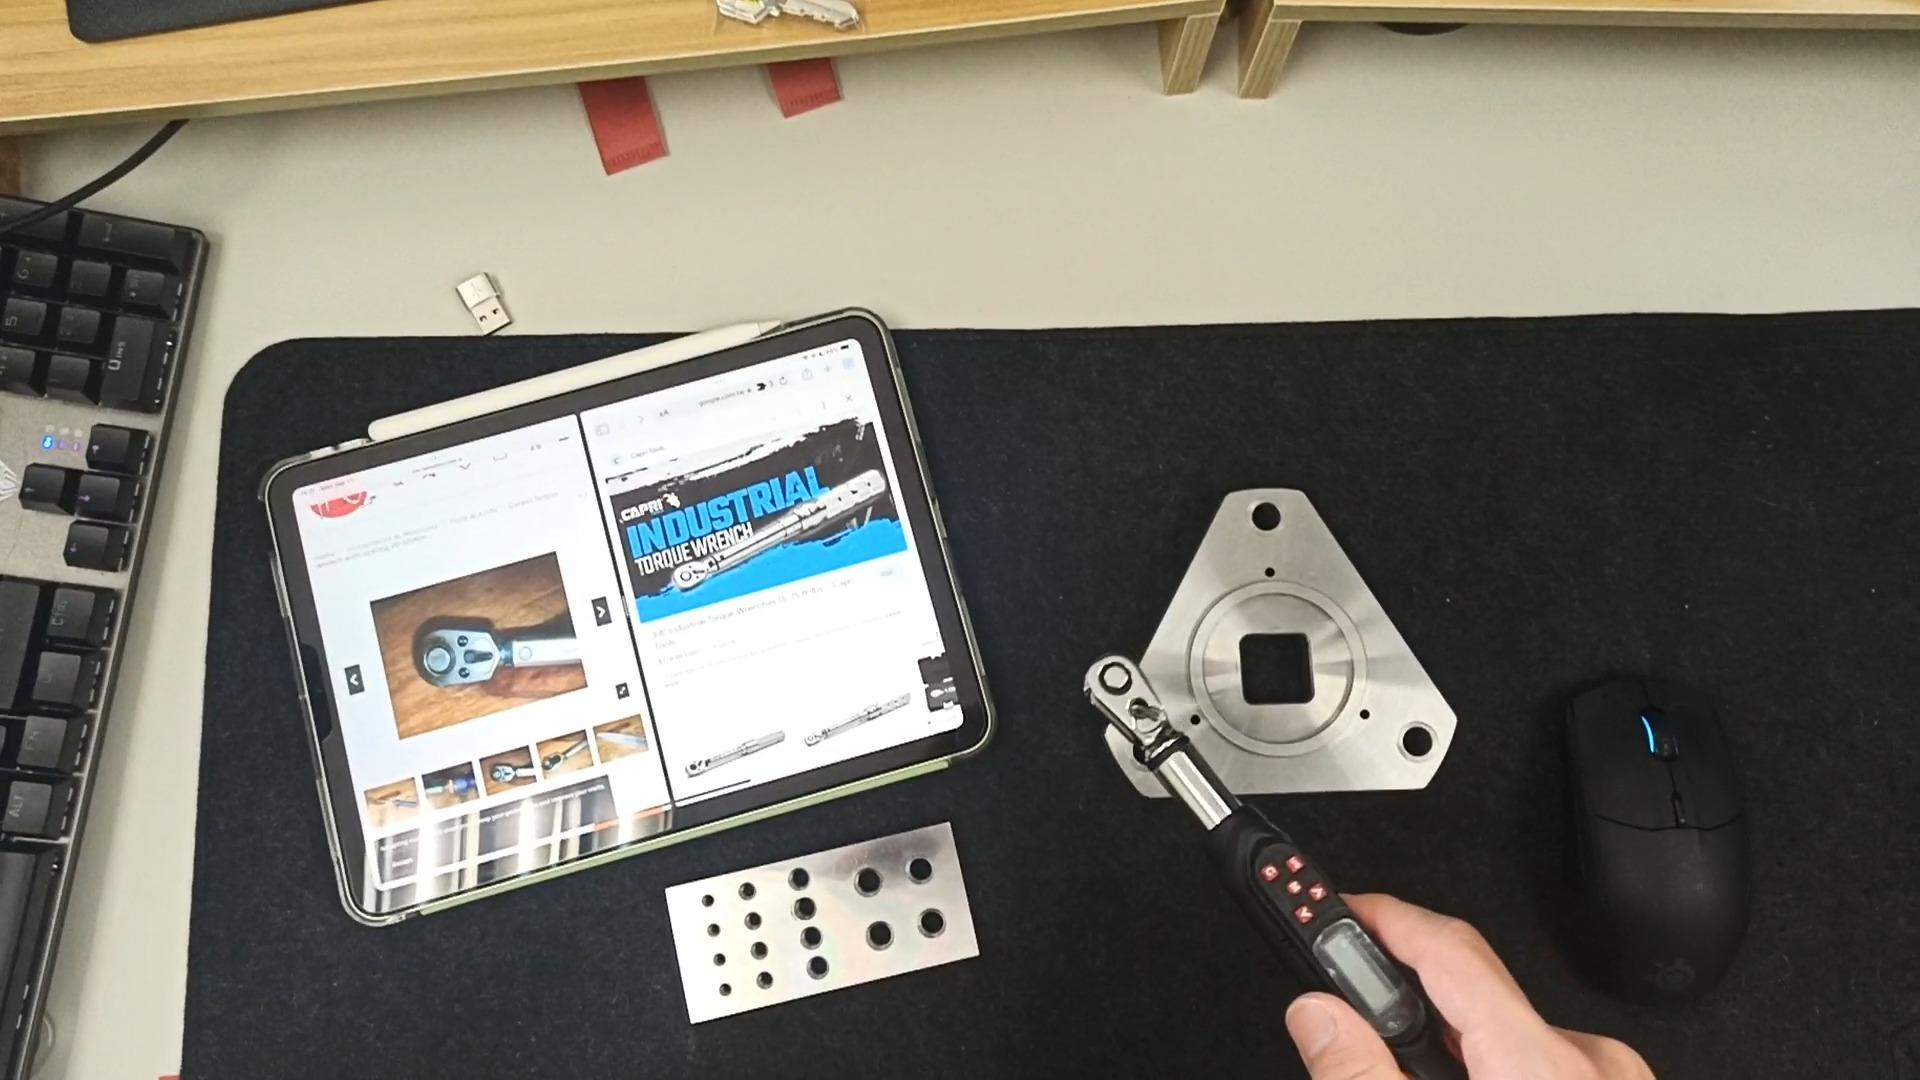Tool: (1073, 651, 1166, 746), (418, 621, 504, 688), (671, 559, 712, 596)
hole: (1374, 724, 1441, 771), (1228, 501, 1292, 543), (902, 910, 963, 947), (5, 248, 61, 287), (1, 299, 53, 339), (890, 857, 944, 894), (843, 865, 897, 899), (861, 919, 914, 953), (59, 260, 112, 294), (803, 960, 849, 986), (787, 899, 825, 928), (782, 868, 825, 893), (798, 928, 840, 953), (731, 881, 769, 902), (740, 913, 775, 934), (756, 975, 791, 993), (744, 944, 778, 963), (695, 890, 728, 909), (705, 955, 737, 973), (713, 982, 745, 1000), (702, 922, 733, 939)
